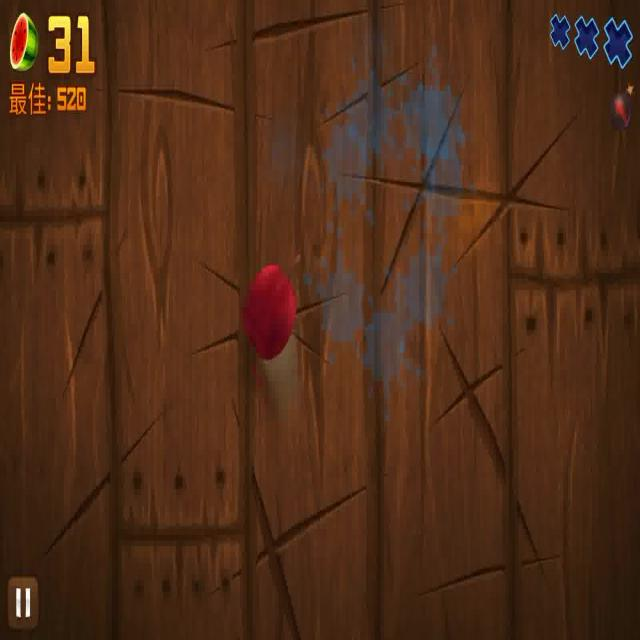fruit: (242, 263, 298, 359)
